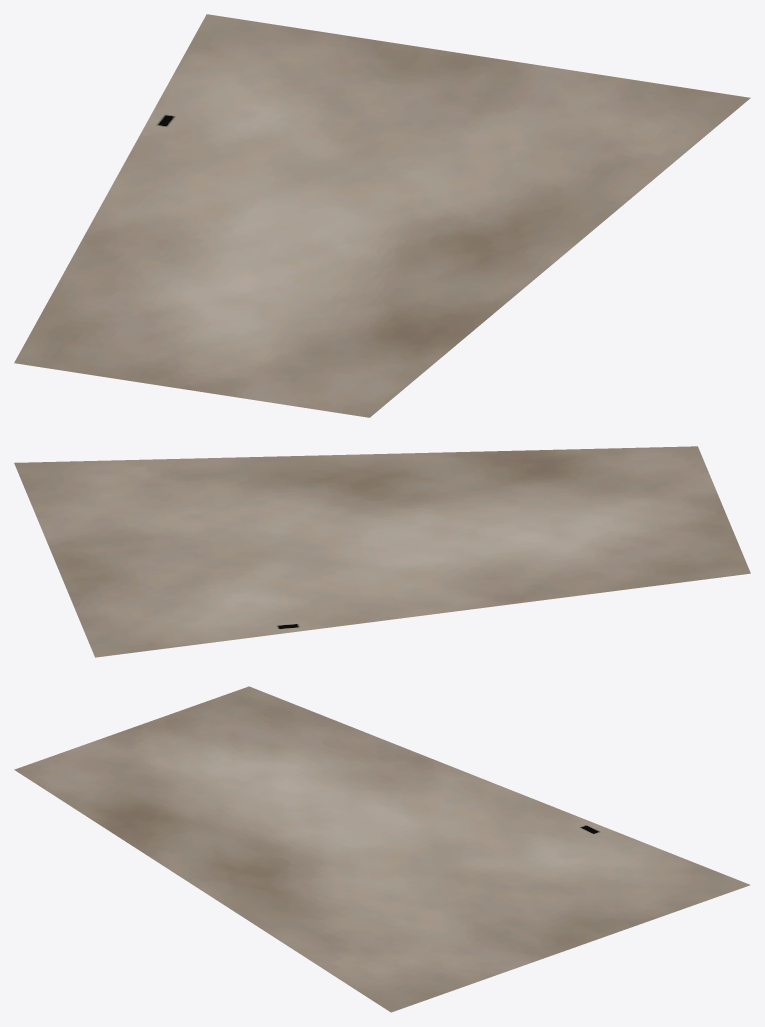
The model's file is web_19.fbx.
3 renders of one model, top to bottom at view 1: azimuth 30°, elevation 25°; view 2: azimuth 150°, elevation 25°; view 3: azimuth 270°, elevation 25°, orthographic. The views are drawn at different scales.
Visible parts, largest first — view 1: mine_tileset/mine_web04_mat; view 2: mine_tileset/mine_web04_mat; view 3: mine_tileset/mine_web04_mat.
Boxes of the visible parts, x1=… form: mine_tileset/mine_web04_mat: x1=14, y1=14, x2=750, y2=417; mine_tileset/mine_web04_mat: x1=14, y1=446, x2=750, y2=657; mine_tileset/mine_web04_mat: x1=14, y1=686, x2=750, y2=1012.
Bounding box in the file's own units: 8.24 × 0 × 7.86.
